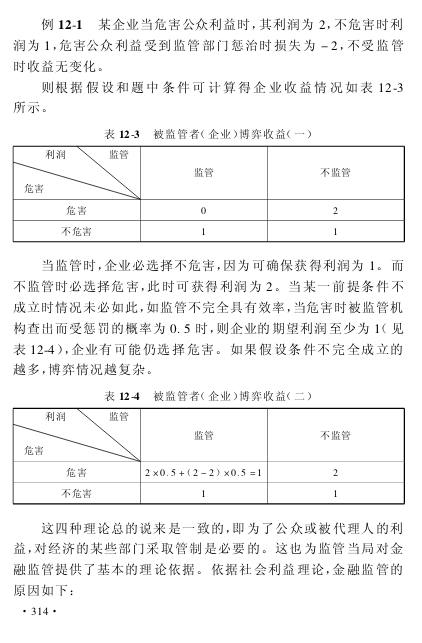table: (12, 406, 404, 504), (12, 145, 406, 242)
